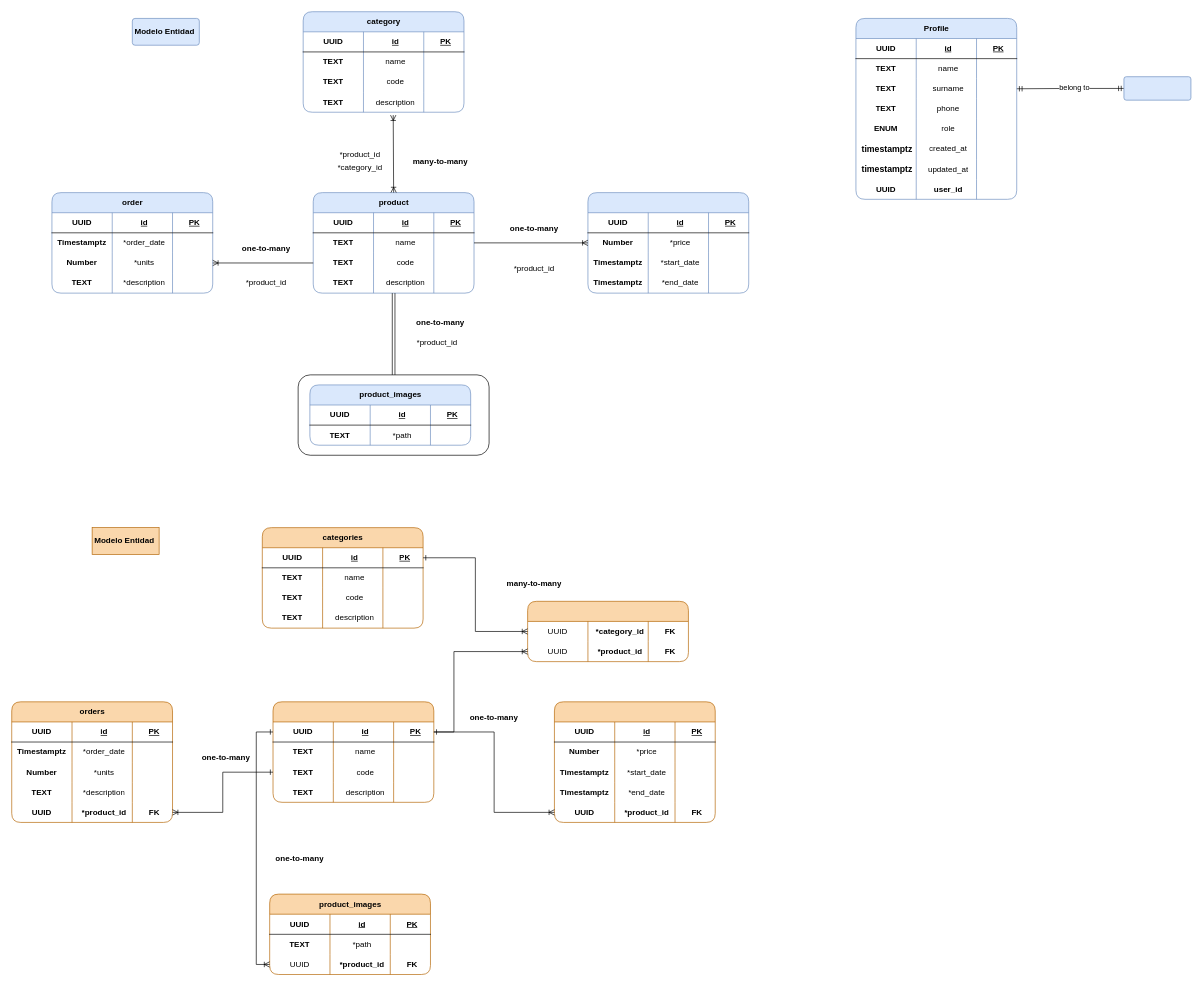
Image size: 1203x986. Some labels were removed from this diagram. The box of each missing label's shape, as (x1, y1, x2, y2) in pixels:
Auth.user: (1123, 76, 1191, 100)
categories_products: (527, 601, 688, 662)
products: (272, 701, 434, 802)
rate: (587, 192, 749, 293)
rates: (554, 701, 715, 822)
